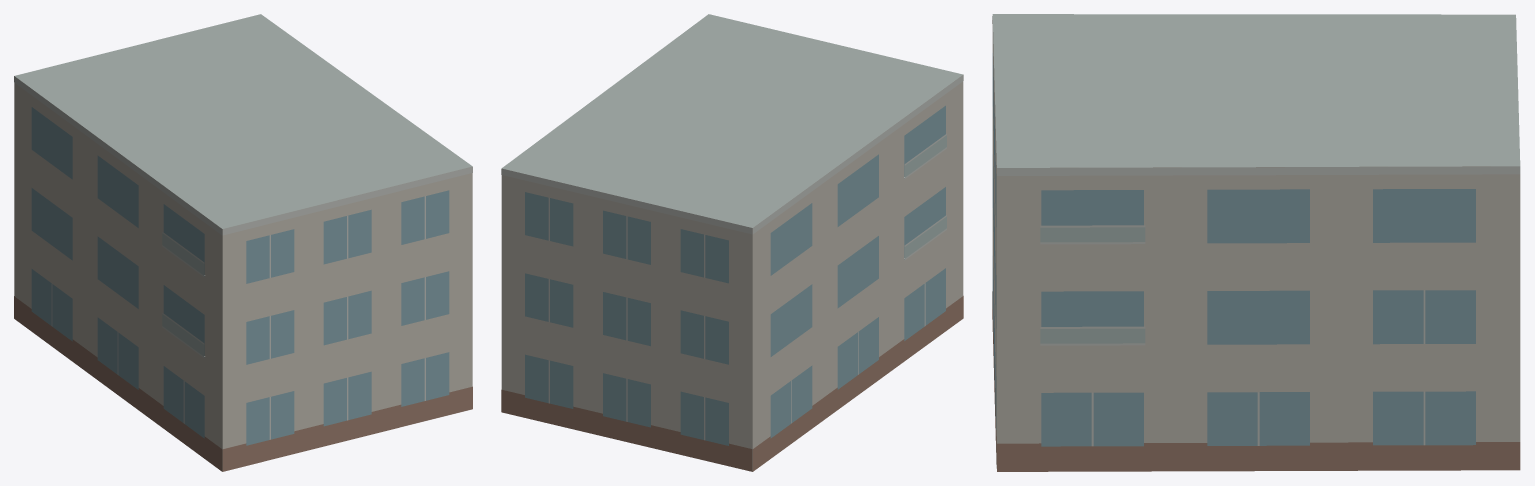
The model's file is survey-upis-33018133.glb.
3 views of the same model, side by side, from view 1: azimuth 30°, elevation 25°; view 2: azimuth 150°, elevation 25°; view 3: azimuth 270°, elevation 25° (orthographic). The views are drawn at different scales.
Parts seen in each view (by area): view 1: survey-upis-33018133.tmp; view 2: survey-upis-33018133.tmp; view 3: survey-upis-33018133.tmp.
Part boxes in pixels (x1,y1,x2,y2): survey-upis-33018133.tmp: (14,14,472,471); survey-upis-33018133.tmp: (501,14,963,471); survey-upis-33018133.tmp: (992,14,1520,471).
Bounding box in the file's own units: 10.01 × 9.15 × 14.41.
